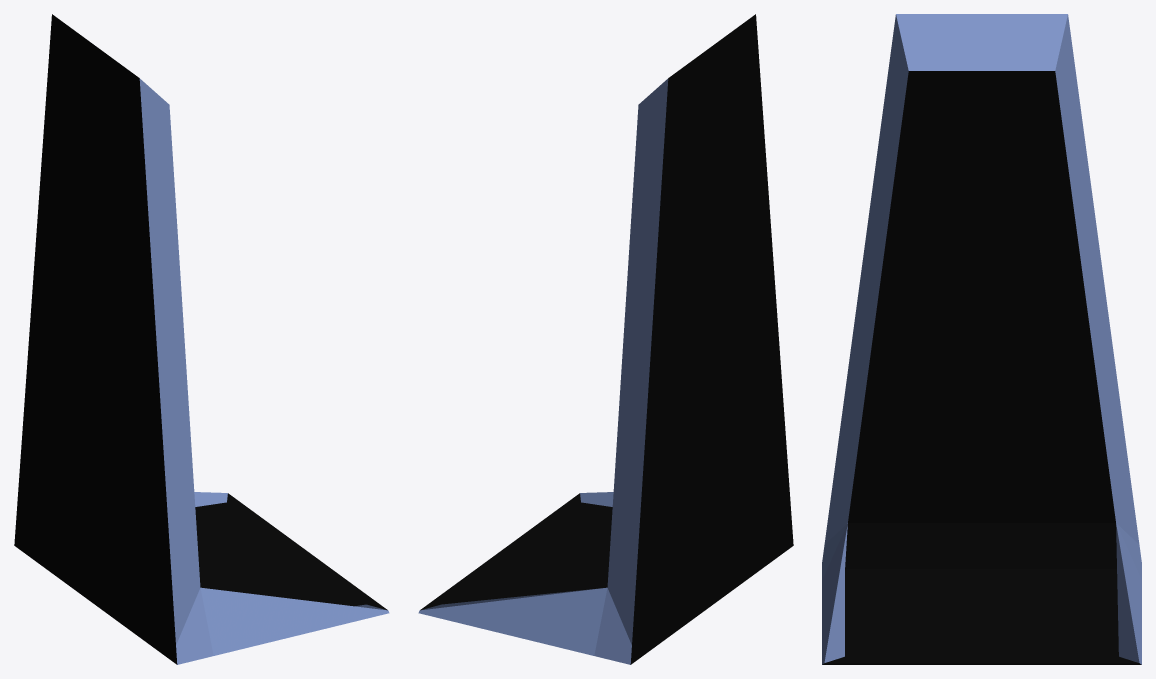
Rendered from portal.fbx.
3 views of the same model, side by side, from view 1: azimuth 30°, elevation 25°; view 2: azimuth 150°, elevation 25°; view 3: azimuth 270°, elevation 25° (orthographic).
Visible parts, largest first — view 1: Cube; view 2: Cube; view 3: Cube.
Part boxes in pixels (box(x1,y1,x2,y2)): Cube: box(14, 14, 389, 664); Cube: box(418, 14, 793, 664); Cube: box(822, 14, 1141, 664).
Bounding box in the file's own units: 264 × 664 × 350.
